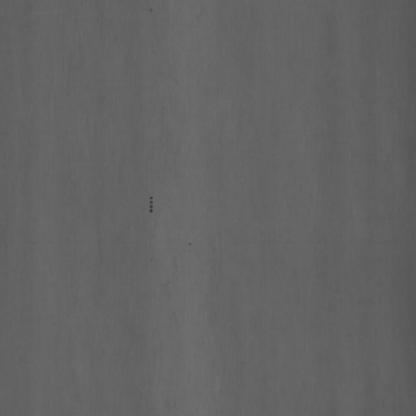oil_spot: (148, 193, 155, 217)
